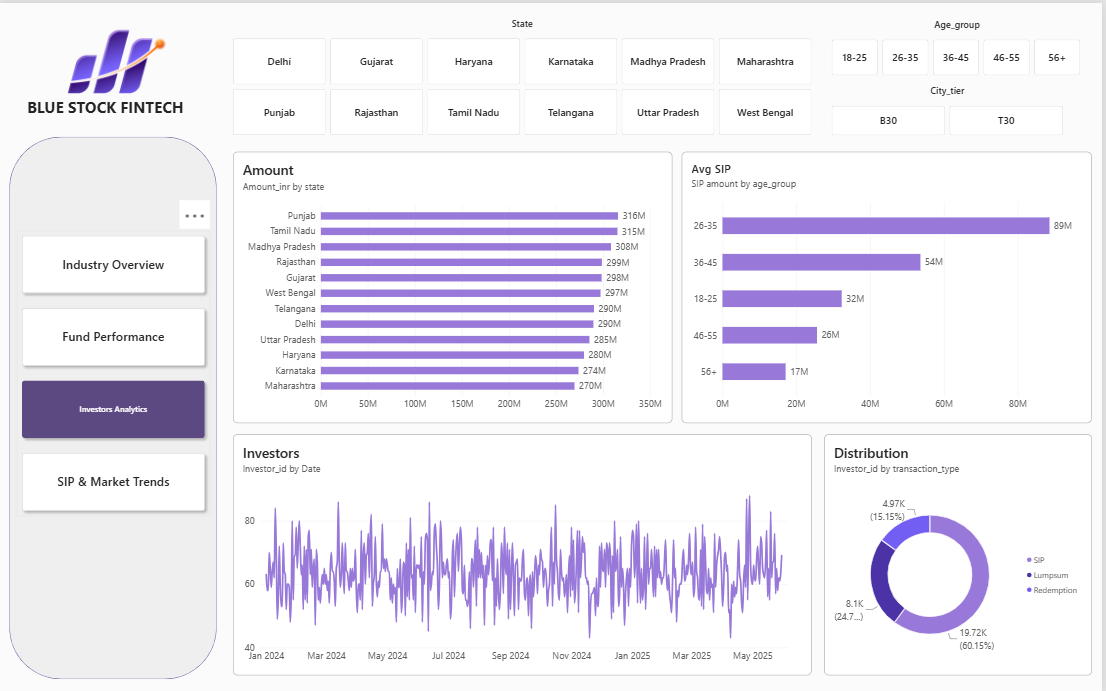

The dashboard page shown, as its layout file describes it:
{"tool":"powerbi","page":{"name":"Investors Analytics","canvas":[1920,1200],"ordinal":2},"visuals":[{"type":"image","box":[0,0,404.3,204.3],"z":0,"group":"g1"},{"type":"advancedSlicerVisual","title":"State","fields":{"Values":["investors_transaction.state"]},"box":[408.5,23.4,1006.4,206.4],"z":0},{"type":"textbox","box":[19.6,163,334.8,52.2],"z":1000,"group":"g1"},{"type":"clusteredBarChart","title":"Amount","fields":{"Category":["investors_transaction.state"],"Y":["Sum(investors_transaction.amount_inr)"]},"box":[408.5,259.6,763.8,472.3],"z":1000},{"type":"donutChart","title":"Distribution","fields":{"Category":["investors_transaction.transaction_type"],"Y":["CountNonNull(investors_transaction.investor_id)"]},"box":[1436.2,751.1,466,419.1],"z":2000},{"type":"clusteredBarChart","title":"Avg SIP","fields":{"Category":["investors_transaction.age_group"],"Y":["_Measures.SIP amount average per age_group"]},"box":[1189.4,259.6,712.8,472.3],"z":3000},{"type":"lineChart","title":"Investors","fields":{"Y":["CountNonNull(investors_transaction.investor_id)"],"Category":["dim_date.Date"]},"box":[408.5,751.1,1006.4,419.1],"z":4000},{"type":"advancedSlicerVisual","title":"City_tier","fields":{"Values":["investors_transaction.city_tier"]},"box":[1451.1,140.4,402.1,89.4],"z":5000},{"type":"advancedSlicerVisual","title":"Age_group","fields":{"Values":["investors_transaction.age_group"]},"box":[1451.1,25.5,436.2,100],"z":6000},{"type":"group","id":"g1","title":"Group 1","box":[0,0,404.3,215.2],"z":7000},{"type":"shape","box":[19.6,232.6,360.9,943.5],"z":7001},{"type":"pageNavigator","box":[32.6,395.7,337,497.8],"z":7002}]}

Visuals, with their boxes in screenshot pixels (x1, y1, x2, y2), scaled from the page's 1920x1200 canvas onto the 1106x691 screenshot:
image: [0,0,233,118]
"State" advancedSlicerVisual: [235,13,815,132]
textbox: [11,94,204,124]
"Amount" clusteredBarChart: [235,149,675,421]
"Distribution" donutChart: [827,433,1096,674]
"Avg SIP" clusteredBarChart: [685,149,1096,421]
"Investors" lineChart: [235,433,815,674]
"City_tier" advancedSlicerVisual: [836,81,1068,132]
"Age_group" advancedSlicerVisual: [836,15,1087,72]
"Group 1" group: [0,0,233,124]
shape: [11,134,219,677]
pageNavigator: [19,228,213,515]
